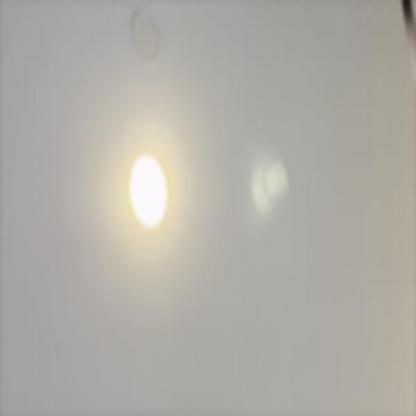light_on: (120, 130, 176, 247)
